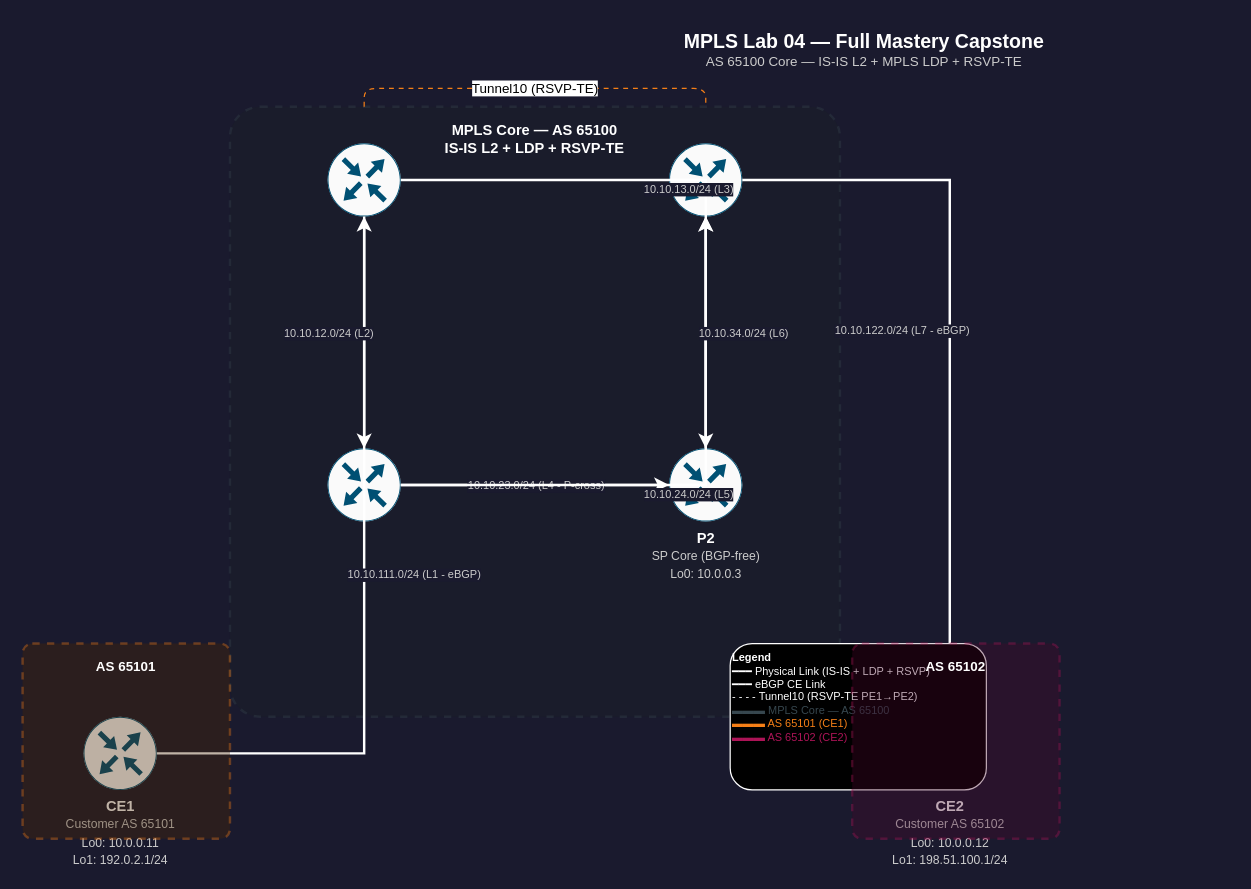
Some shapes in this 1251 by 889 pixel diagram are drawn without their labels. The shapes that lost their labels are listed below. From the top down, each one's centre as x and y in pixels, then its label:
the point at 363,179: PE1 SP Edge (Headend) Lo0: 10.0.0.1
the point at 705,179: PE2 SP Edge (Tail) Lo0: 10.0.0.4
the point at 363,484: P1 SP Core (BGP-free) Lo0: 10.0.0.2
